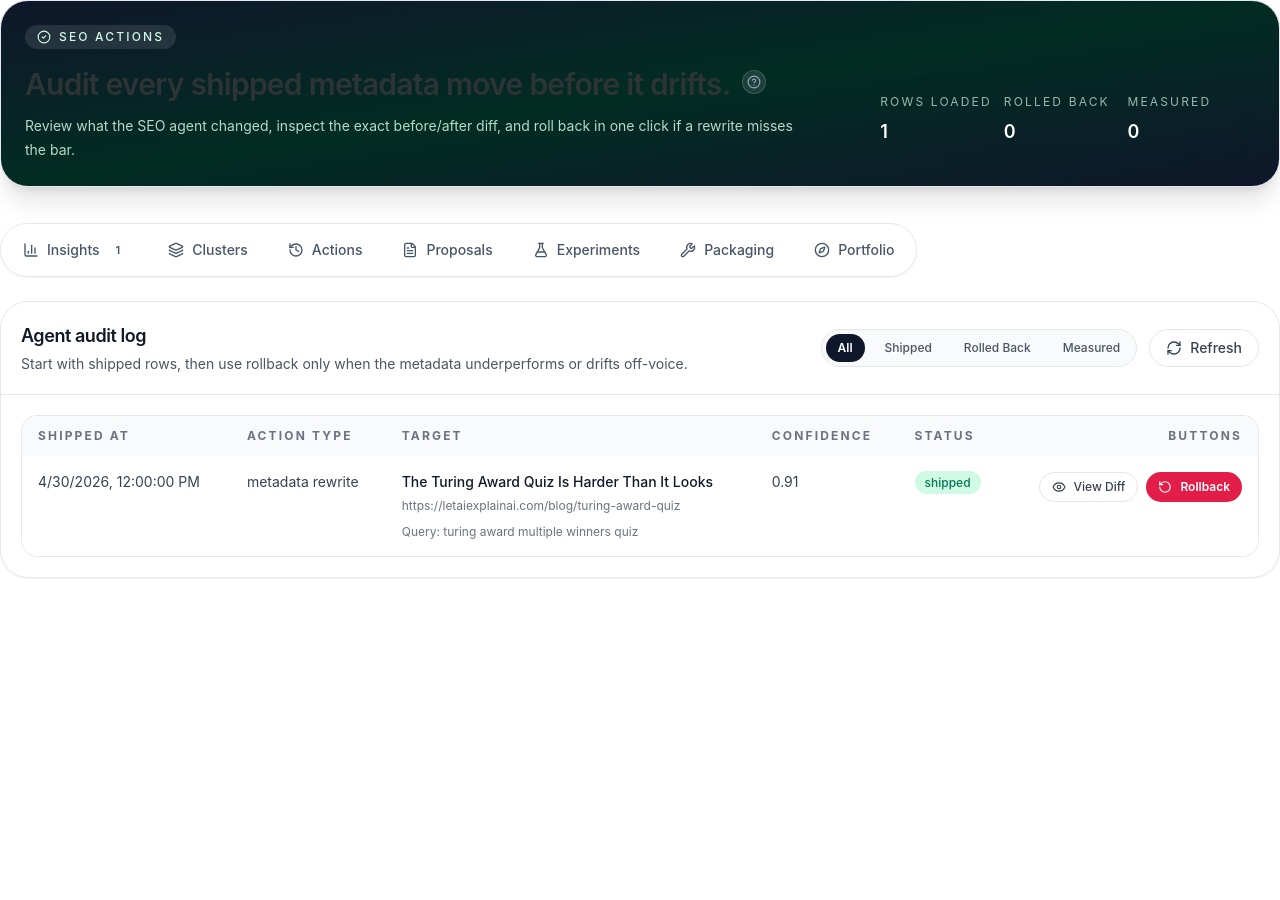
Test case: SeoActionsPage › renders the actions table and opens the diff drawer
Expected: the text "The Turing Award Quiz Is Harder Than It Looks" is shown, [402,472,722,492]
Step 1. Click the button "View Diff" → (1088, 487), box [1039,472,1138,502]
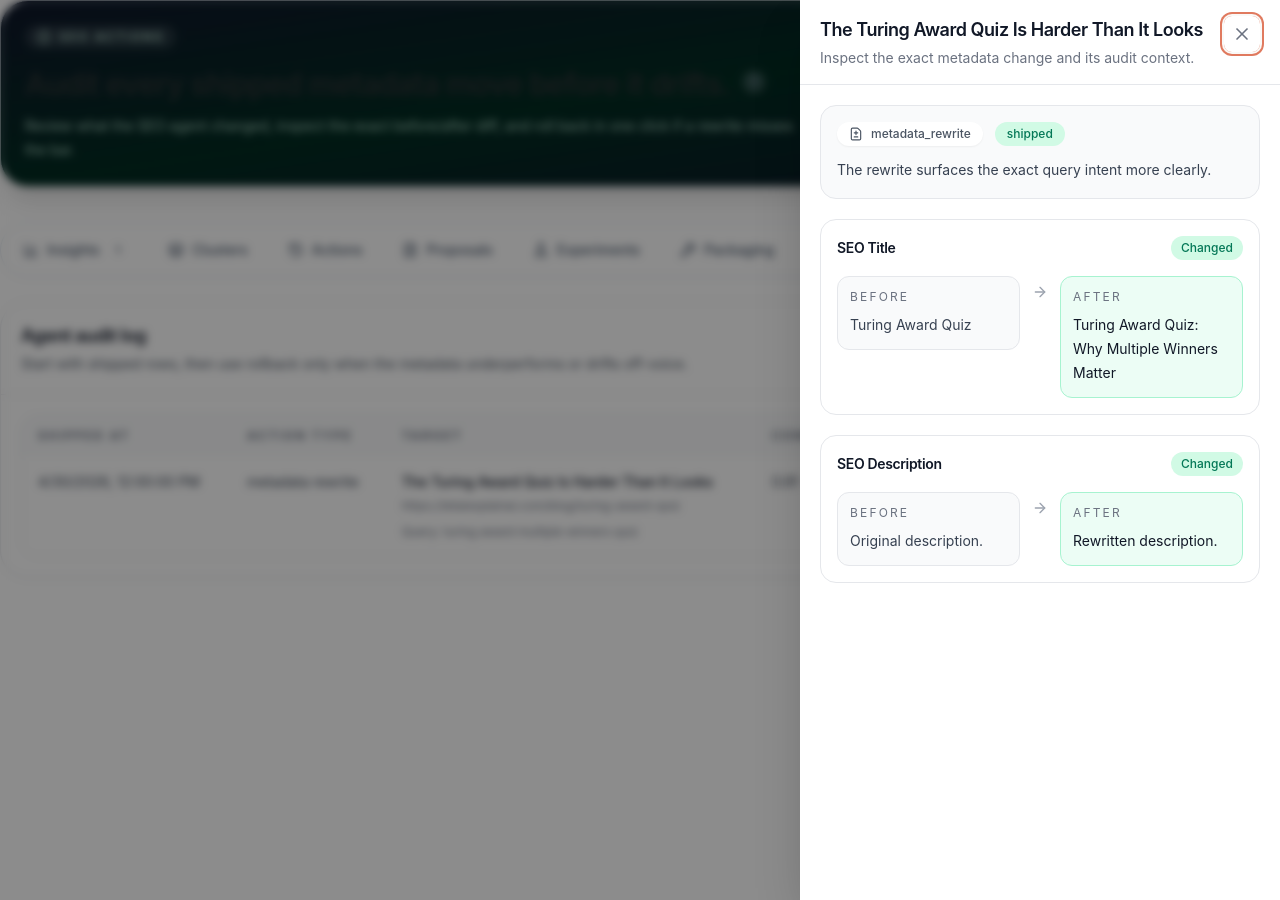
Now the heading "SEO Title" is shown, box [837,238,896,258]
Now the text "Turing Award Quiz" is shown, box [850,316,972,333]
Now the text "Turing Award Quiz: Why Multiple Winners Matter" is shown, box [1073,313,1230,385]
